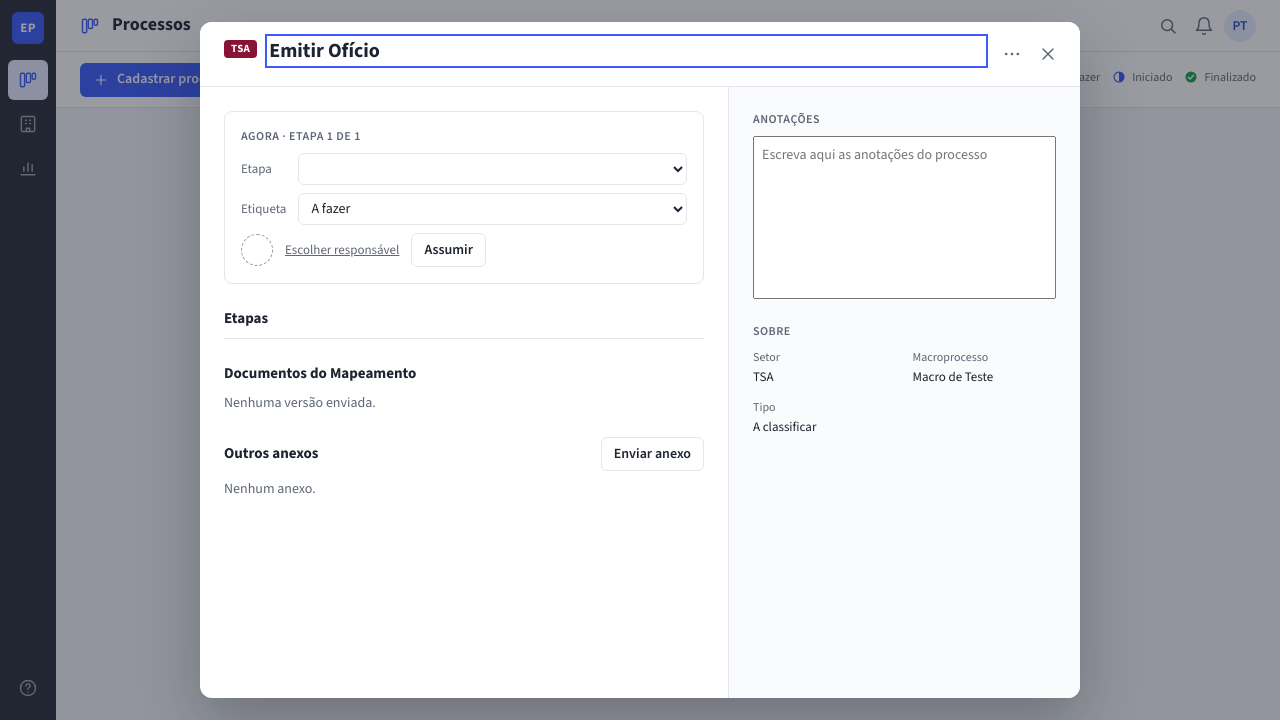
Test: o Histórico agrupa por dia, do mais novo para o mais antigo
This screenshot has width=1280, height=720.
Click the button named "Ações do processo" at [1012, 54], box [996,38,1028,70]
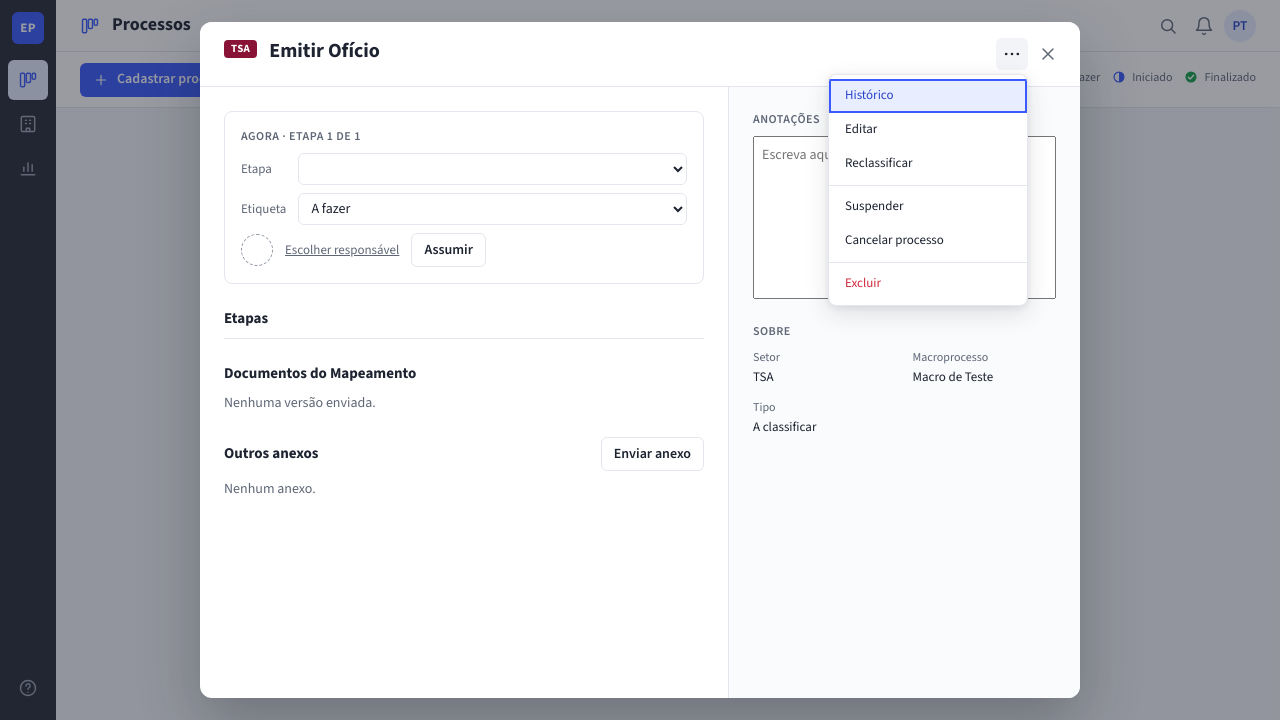
Click the menu item "Histórico" at [928, 96], box [829,79,1027,113]
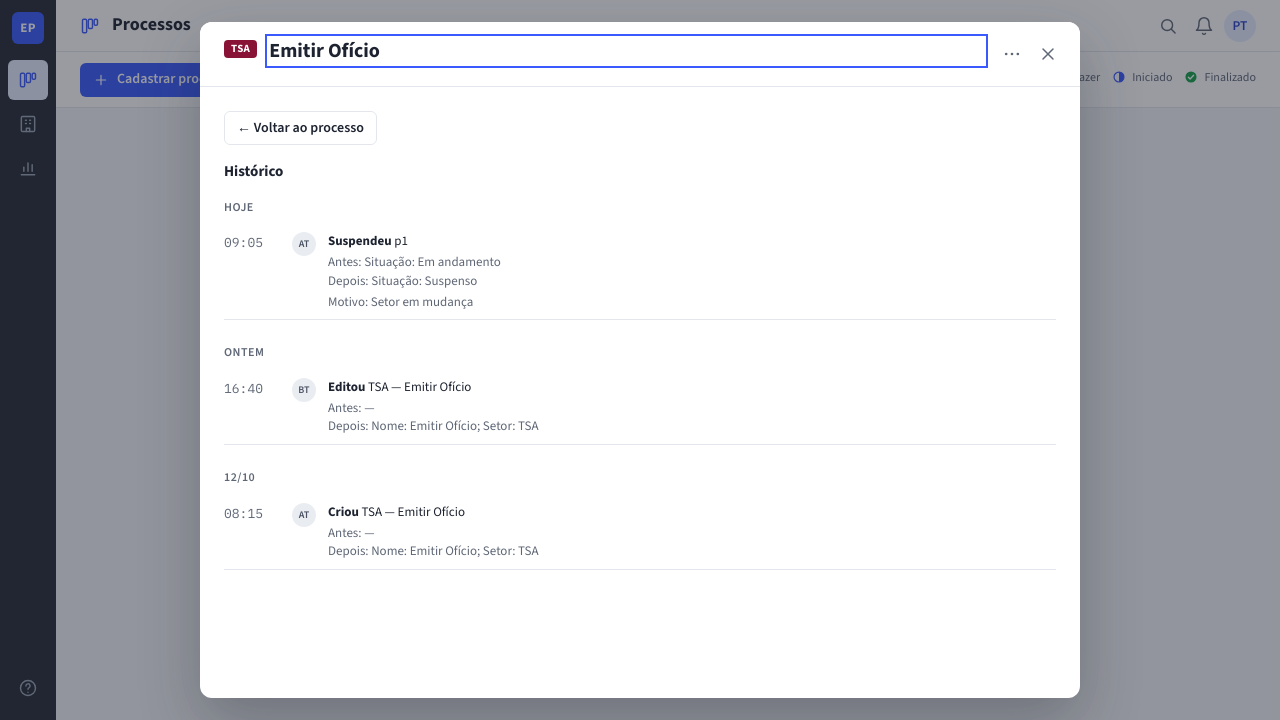
expect the heading "Histórico" is shown: met, box [224,161,283,182]
expect the headings read "Hoje", "Ontem", "12/10", in this order: met, box [224,199,254,216]; [224,344,264,361]; [224,469,255,486]
